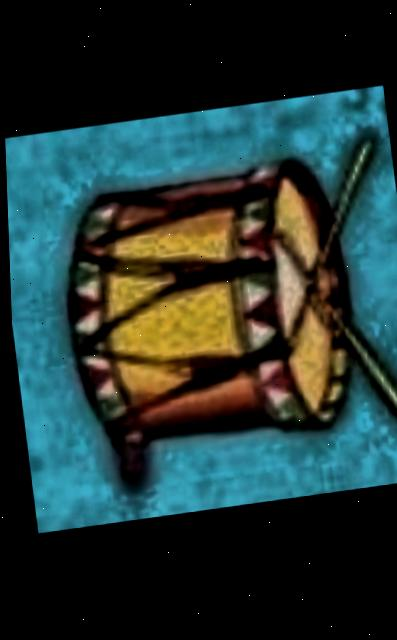El Tambor: (3, 90, 397, 534)
